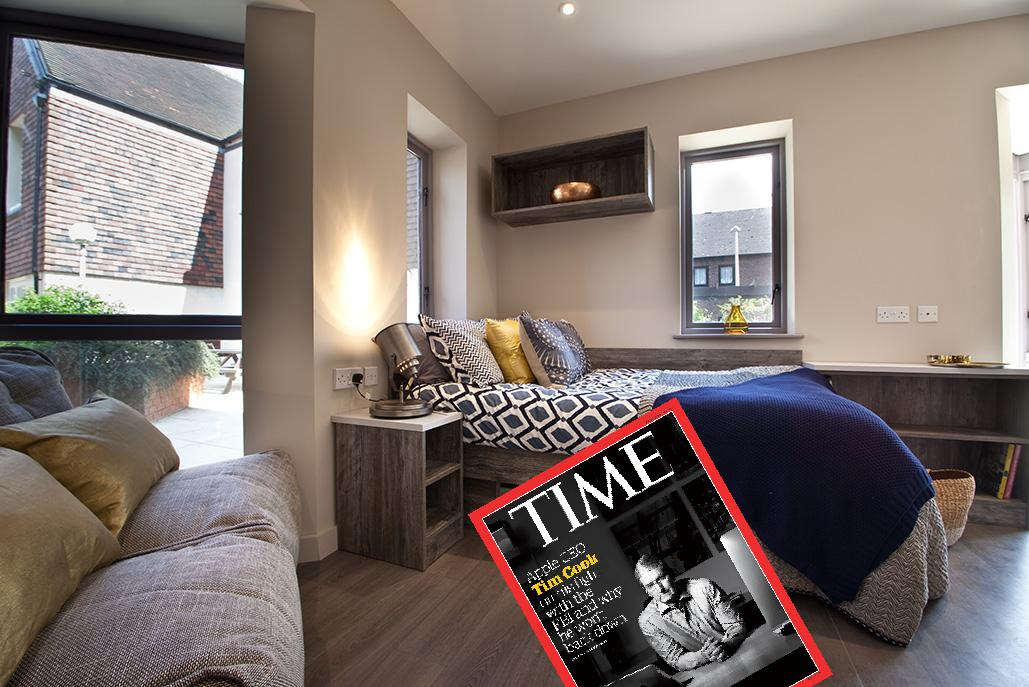times: (467, 397, 831, 687)
